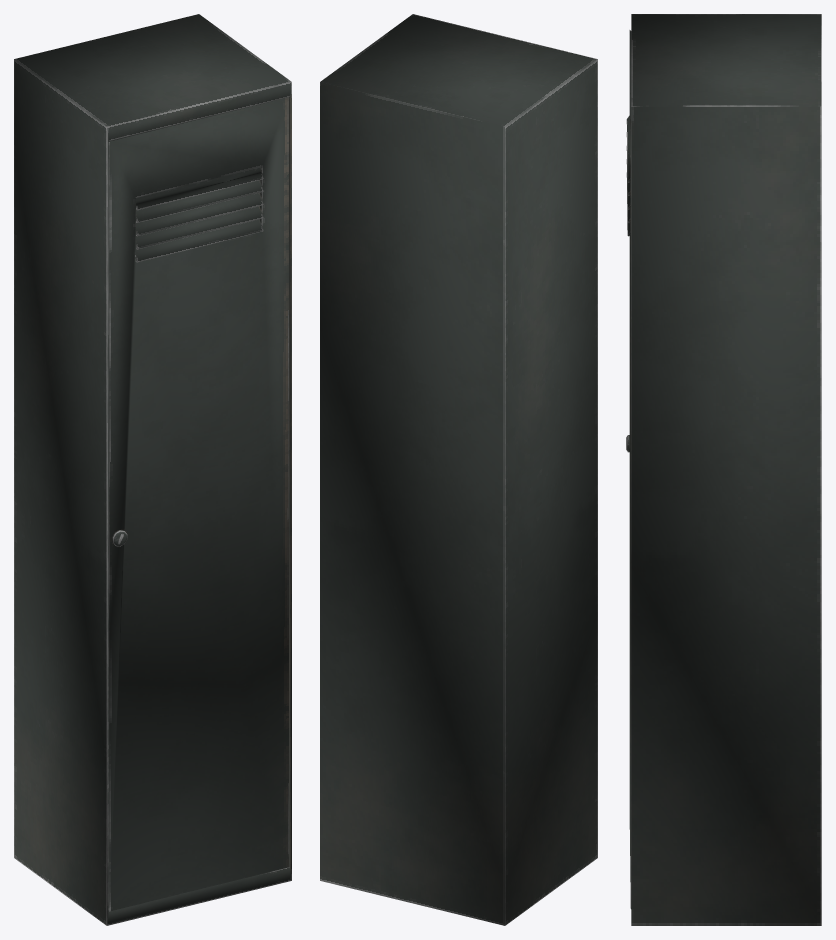
File: locker_grey.glb
3 views of the same model, side by side, from view 1: azimuth 30°, elevation 25°; view 2: azimuth 150°, elevation 25°; view 3: azimuth 270°, elevation 25° (orthographic). The views are drawn at different scales.
Parts seen in each view (by area): view 1: Door, Locker; view 2: Locker; view 3: Locker, Door.
Part boxes in pixels (x1,y1,x2,y2): Door: (108, 97, 288, 911); Locker: (14, 14, 291, 925); Locker: (320, 14, 597, 925); Locker: (631, 14, 821, 925); Door: (626, 30, 631, 908).
Size of the model in its own units: 0.3887 by 1.6 by 0.3463.
1 material, 1 textured.
